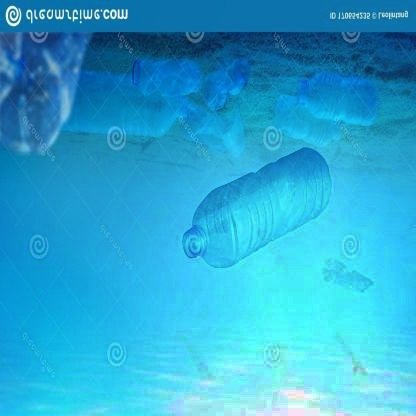pbottle: (183, 148, 334, 272), (295, 74, 378, 127)
